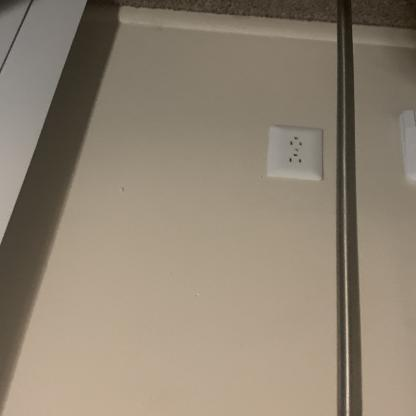OUTLET: (265, 124, 324, 184)
